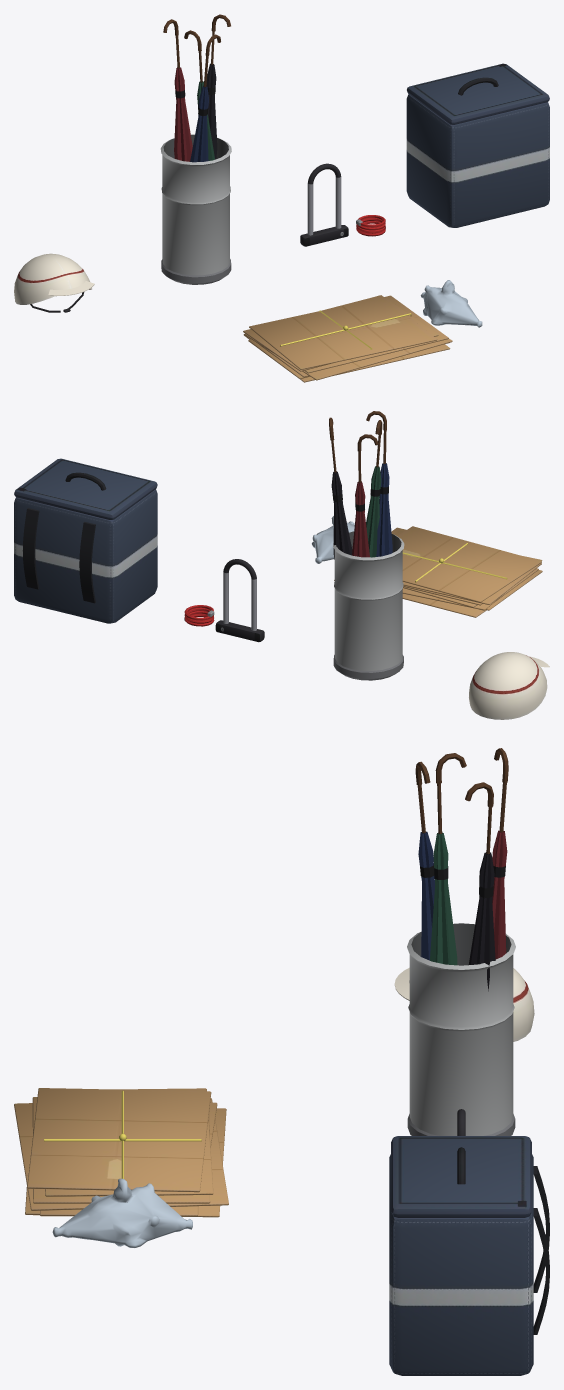
File: wz7_street_props.glb
3 renders of one model, top to bottom at view 1: azimuth 30°, elevation 25°; view 2: azimuth 150°, elevation 25°; view 3: azimuth 270°, elevation 25°, orthographic. The views are drawn at different scales.
Parts seen in each view (by area): view 1: WZ7_delivery_box, WZ7_umbrella_stand, WZ7_RECYCLE, WZ7_helmet, WZ7_bike_lock; view 2: WZ7_delivery_box, WZ7_umbrella_stand, WZ7_RECYCLE, WZ7_helmet, WZ7_bike_lock; view 3: WZ7_delivery_box, WZ7_RECYCLE, WZ7_umbrella_stand, WZ7_helmet.
Part boxes in pixels (x1=…): WZ7_delivery_box: x1=406, y1=63, x2=549, y2=227; WZ7_umbrella_stand: x1=160, y1=14, x2=231, y2=284; WZ7_RECYCLE: x1=243, y1=280, x2=482, y2=382; WZ7_helmet: x1=14, y1=253, x2=94, y2=312; WZ7_bike_lock: x1=300, y1=163, x2=385, y2=246; WZ7_delivery_box: x1=14, y1=458, x2=157, y2=623; WZ7_umbrella_stand: x1=329, y1=411, x2=404, y2=680; WZ7_RECYCLE: x1=311, y1=516, x2=542, y2=617; WZ7_helmet: x1=469, y1=652, x2=549, y2=719; WZ7_bike_lock: x1=184, y1=559, x2=264, y2=642; WZ7_delivery_box: x1=389, y1=1136, x2=549, y2=1375; WZ7_RECYCLE: x1=14, y1=1088, x2=228, y2=1247; WZ7_umbrella_stand: x1=407, y1=748, x2=515, y2=1135; WZ7_helmet: x1=394, y1=967, x2=534, y2=1041.
Size of the model in its own units: 1.98 by 0.9167 by 1.19.
1 material, 1 textured.
